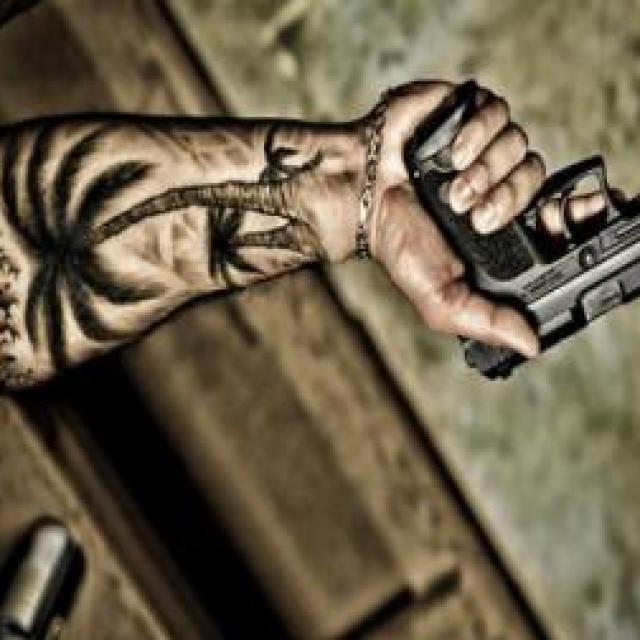pistol: (396, 91, 640, 381)
